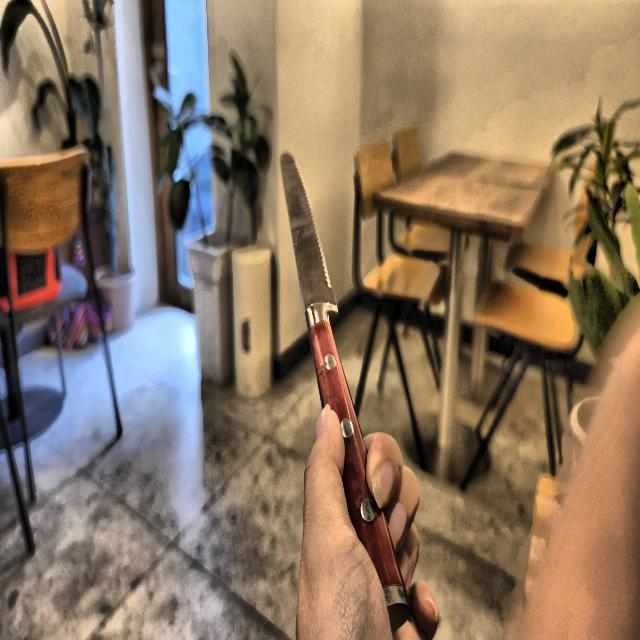knife: (278, 153, 410, 631)
